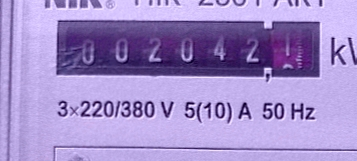0: (78, 34, 96, 64), (177, 33, 195, 63), (112, 33, 129, 64)
1: (279, 27, 293, 58)
2: (145, 34, 163, 63), (243, 33, 260, 62)
4: (210, 30, 228, 63)
screen: (51, 13, 325, 87)
